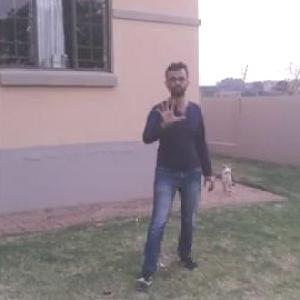follow_hand: (153, 92, 187, 127)
